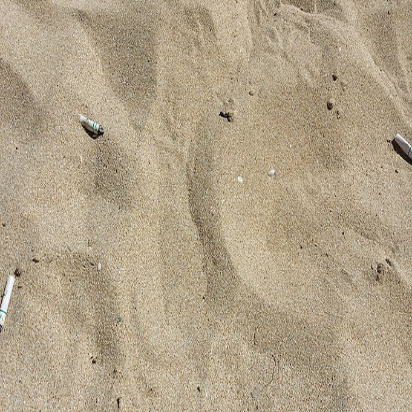cigarette: (1, 268, 18, 338), (72, 113, 110, 144), (389, 124, 412, 162)
